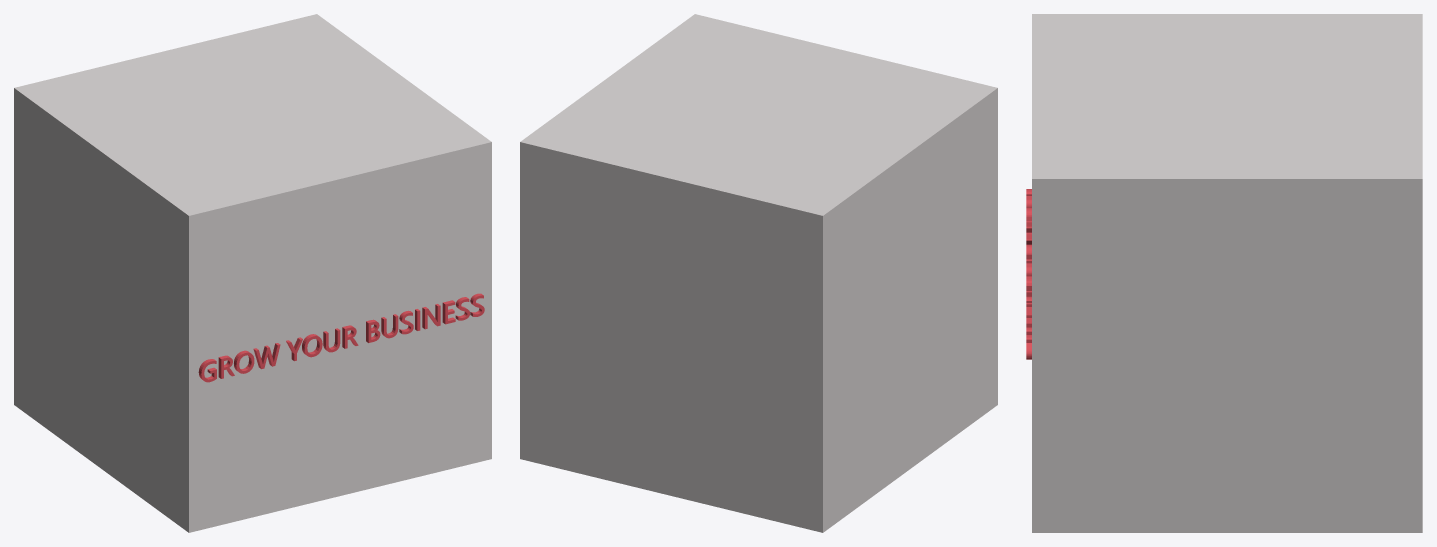
File: grow.glb
3 views of the same model, side by side, from view 1: azimuth 30°, elevation 25°; view 2: azimuth 150°, elevation 25°; view 3: azimuth 270°, elevation 25° (orthographic). The views are drawn at different scales.
Bounding box in the file's own units: 0.2 × 0.2 × 0.203.
